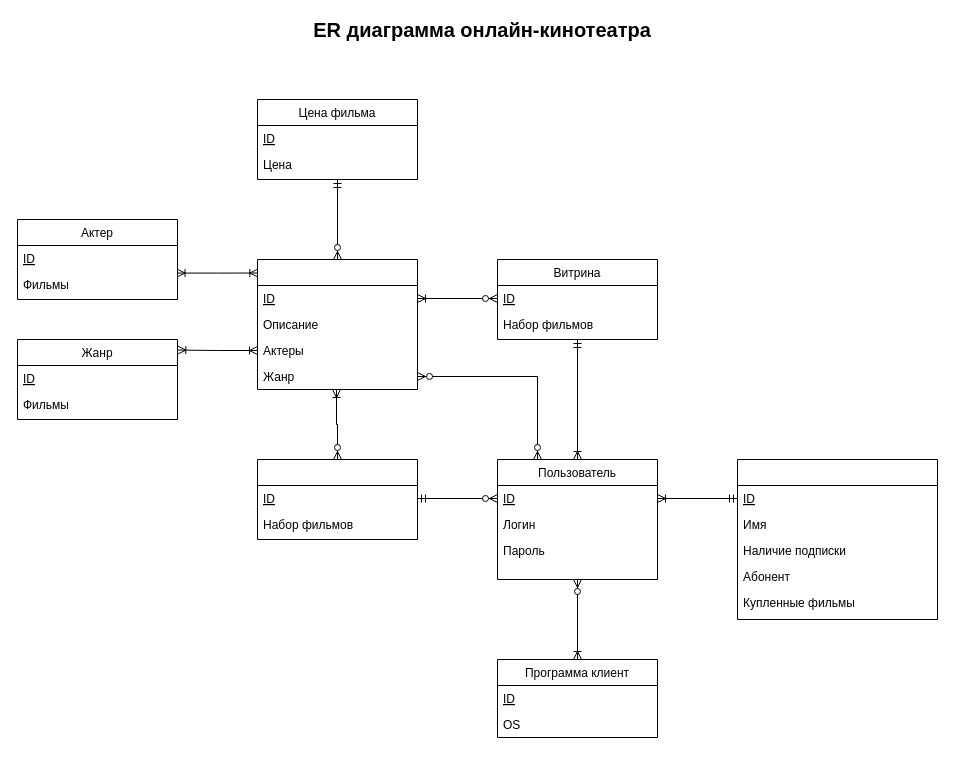
Some shapes in this 955 by 757 pixel diagram are drawn without their labels. The shapes that lost their labels are listed below. From the top down, each one's box as (x1, y1, x2, y2) in pixels, then its label:
(256, 258, 418, 390): Фильм
(256, 458, 418, 540): Подписка
(736, 458, 938, 620): Информация о пользователе
